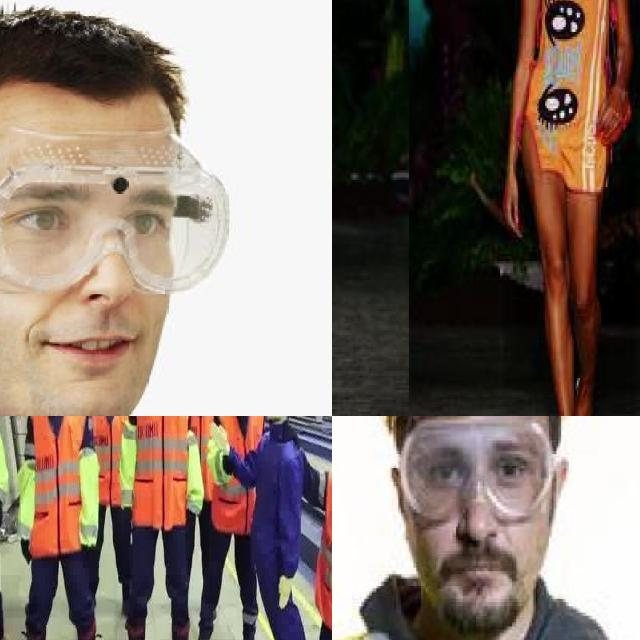boots: (233, 621, 266, 640)
face_nomask: (0, 156, 178, 381), (414, 444, 548, 603)
glasses: (0, 126, 231, 297), (395, 416, 554, 519)
hand_noglove: (592, 77, 632, 144), (496, 182, 528, 235)
head_nohelmet: (0, 6, 185, 134)
person: (332, 416, 640, 640), (503, 0, 637, 416)
vest: (29, 416, 89, 558), (130, 416, 190, 529), (214, 416, 266, 536), (91, 416, 131, 503), (315, 471, 332, 640), (188, 416, 219, 499)
